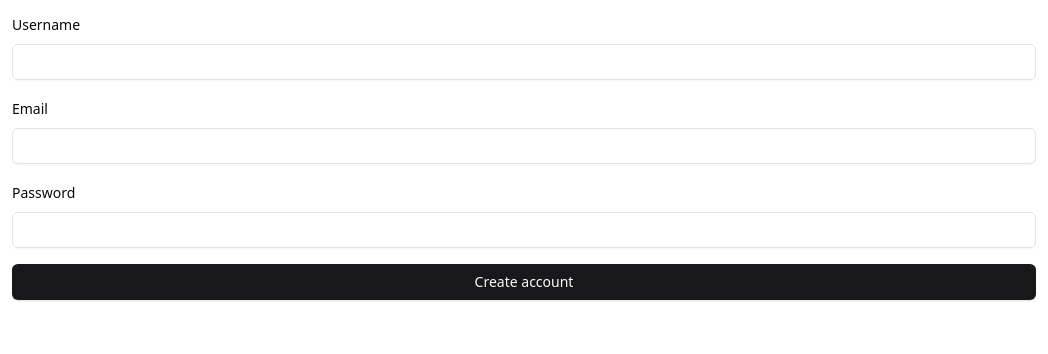
Test case: RegisterForm › shows the API error when the email is taken
Step 1. Type "dupe-user" into the field labelled "Username" → (524, 62), box [12,44,1036,80]
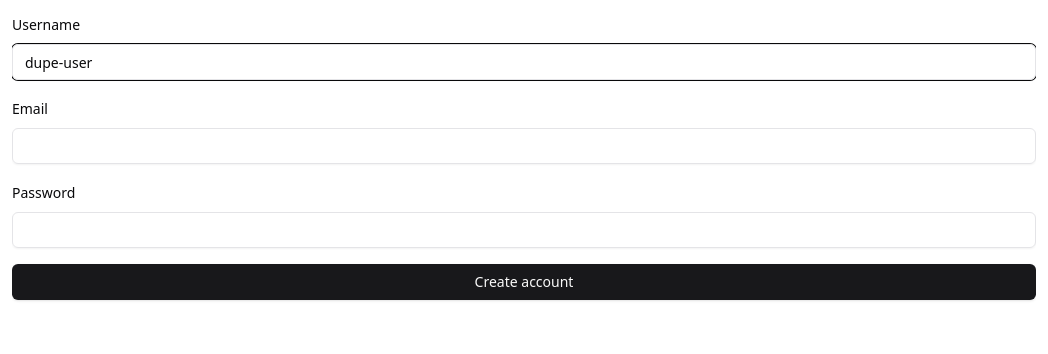
Step 2. Type "dupe@example.com" into the field labelled "Email" → (524, 146), box [12,128,1036,164]
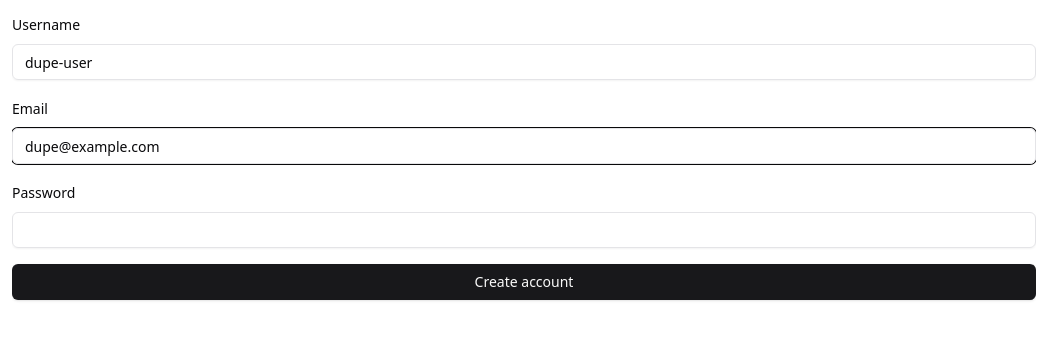
Step 3. Type "password-123" into the password field labelled "Password" → (524, 230), box [12,212,1036,248]
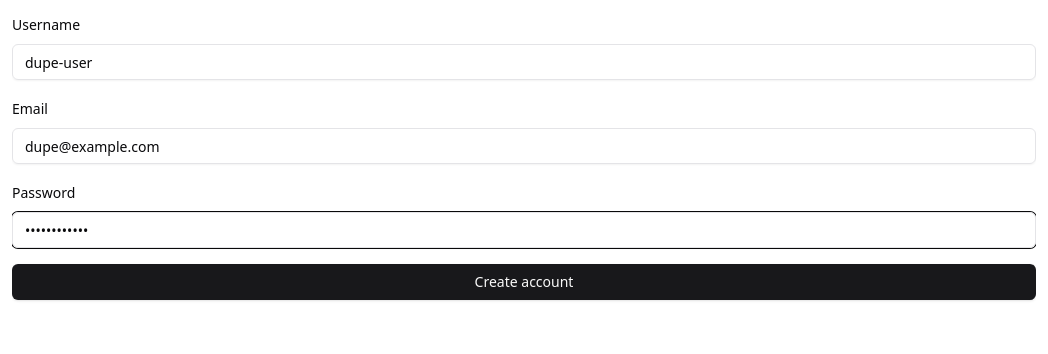
Step 4. Click the button "Create account" → (524, 282), box [12,264,1036,300]
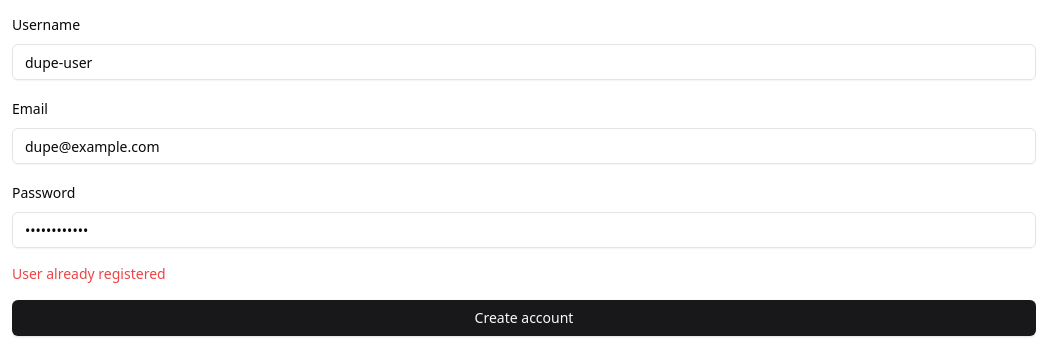
Result: the text "User already registered" is shown at [12,264,166,283]
